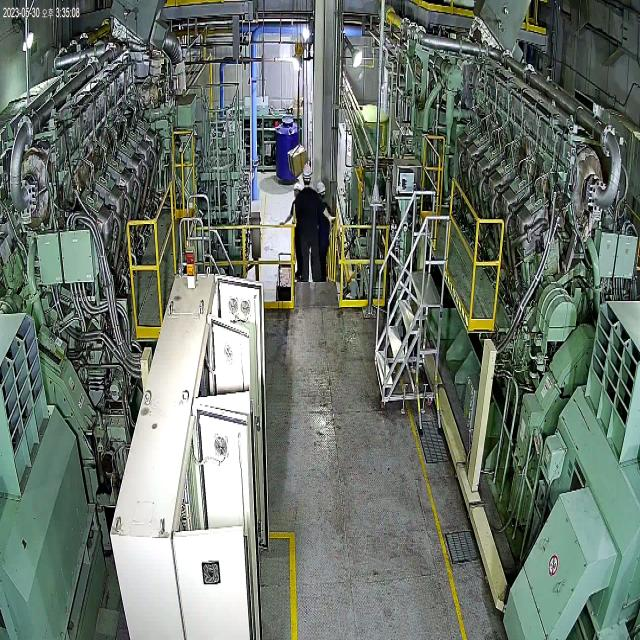Water Tank: (273, 110, 303, 188)
worker: (296, 159, 340, 286), (314, 179, 338, 280), (281, 176, 301, 287)
